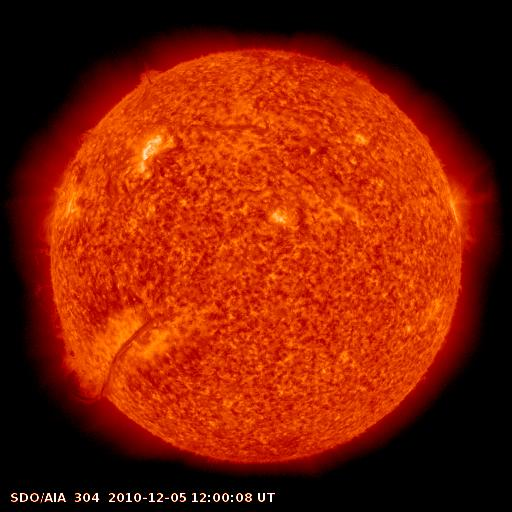prominence: (56, 339, 127, 419), (321, 46, 383, 85), (119, 52, 172, 97), (29, 245, 60, 304), (24, 207, 71, 242)
